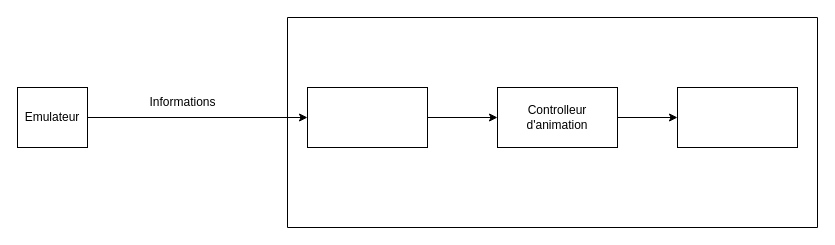
Some shapes in this 835 by 245 pixel diagram are drawn without their labels. Each missing label, with the centre of its shape:
"Generateur de sequence" goes at (367,117).
"Scne 2D d'architecture" goes at (737,117).
